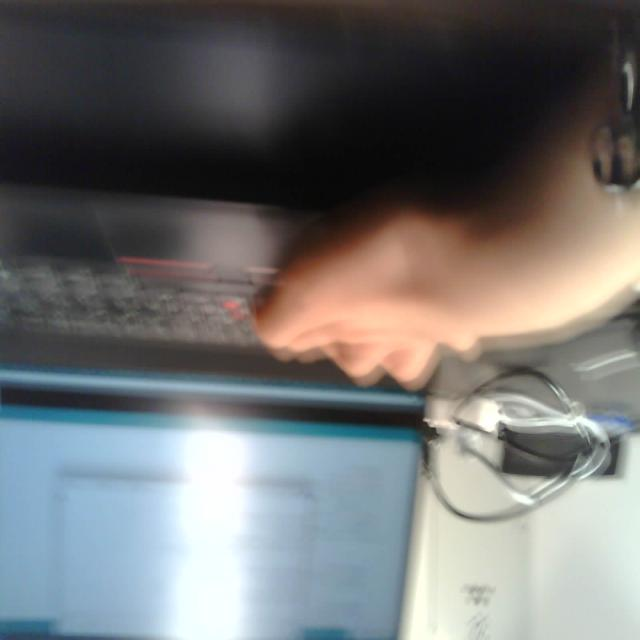keyboard-with-hands: (0, 184, 433, 375)
